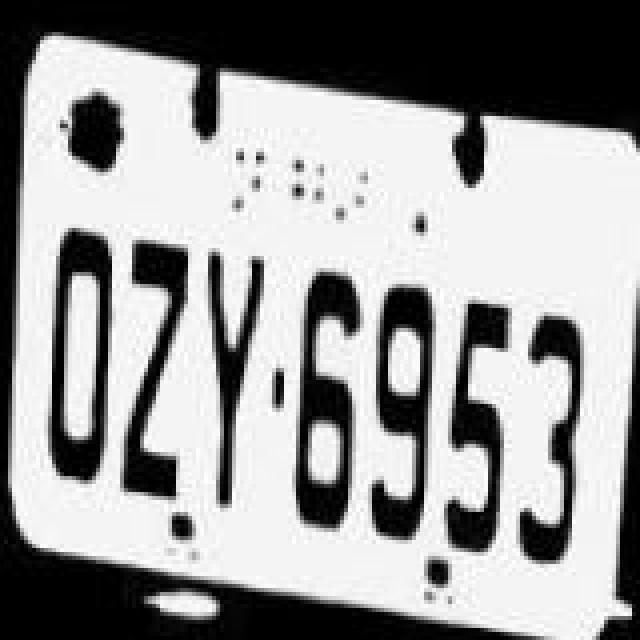3: (510, 308, 594, 564)
5: (432, 294, 520, 554)
6: (284, 268, 368, 536)
9: (362, 278, 438, 546)
O: (30, 222, 118, 482)
Y: (192, 244, 268, 512)
Z: (108, 236, 192, 504)
